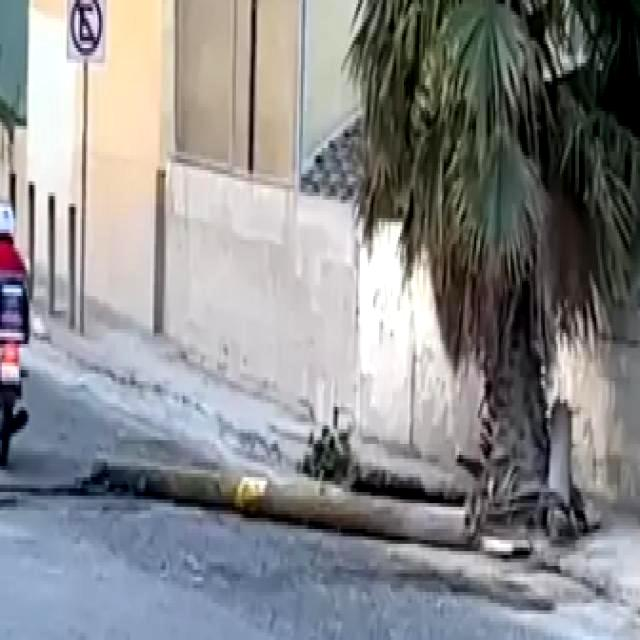Broken Pole: (84, 446, 481, 556)
